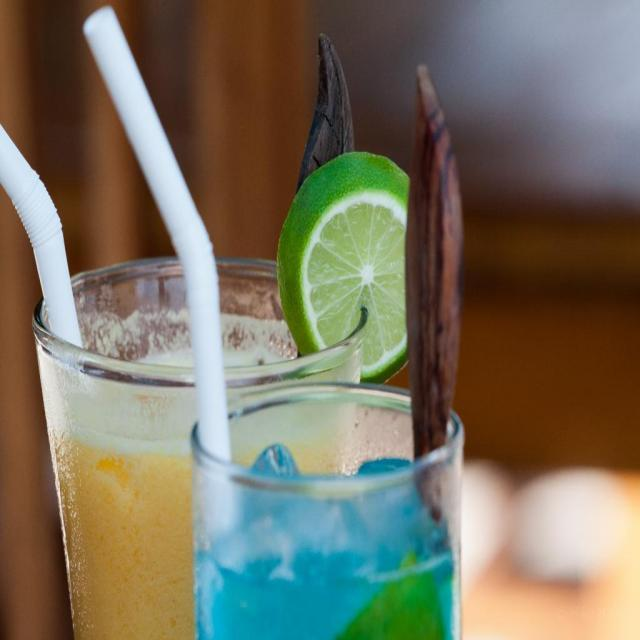Lemon: (277, 149, 412, 385)
